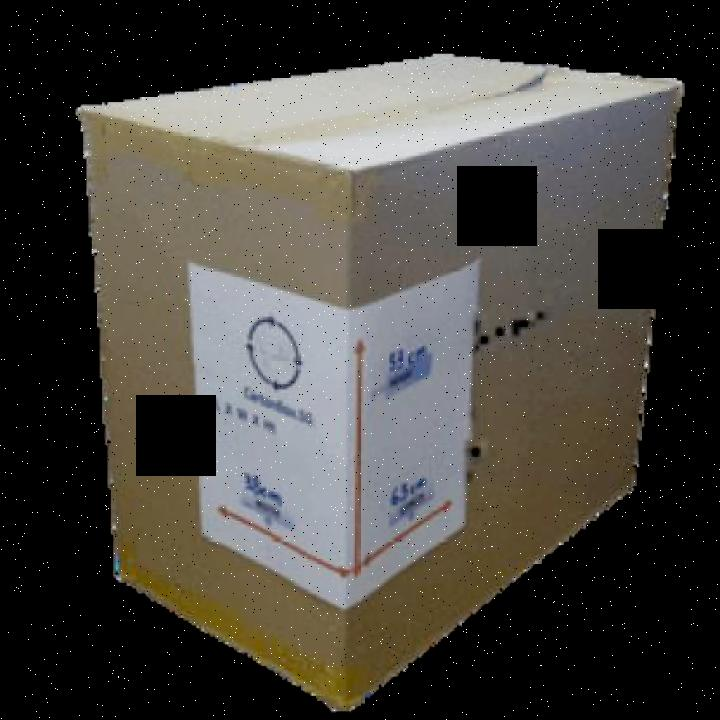box: (61, 54, 707, 716)
